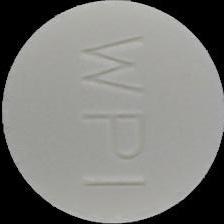68084-216: (0, 0, 224, 224)
